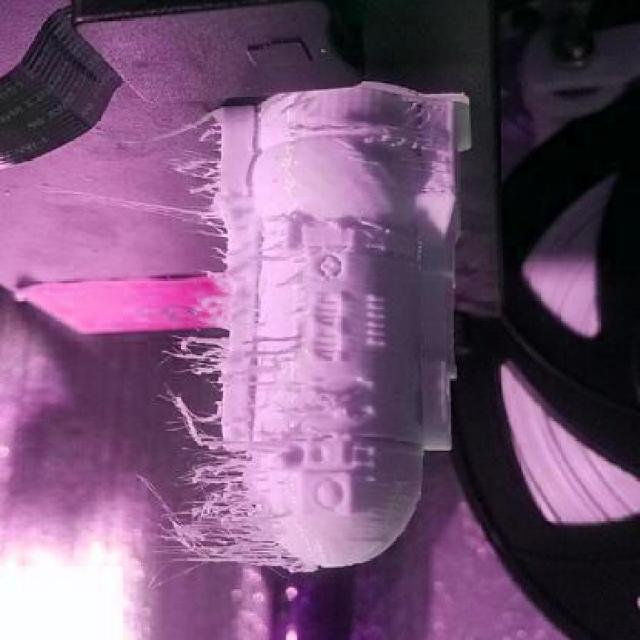spaghetti: (142, 109, 315, 588), (345, 96, 458, 202)
